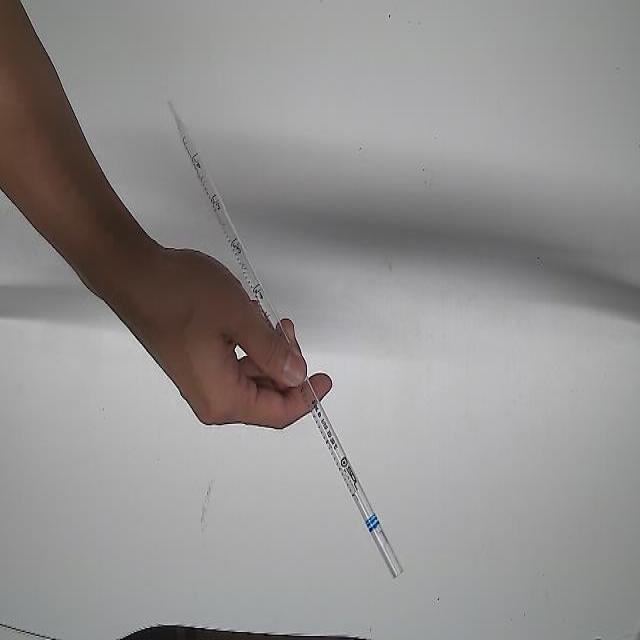Serelogical Pipet 5 mL: (164, 96, 410, 584)
